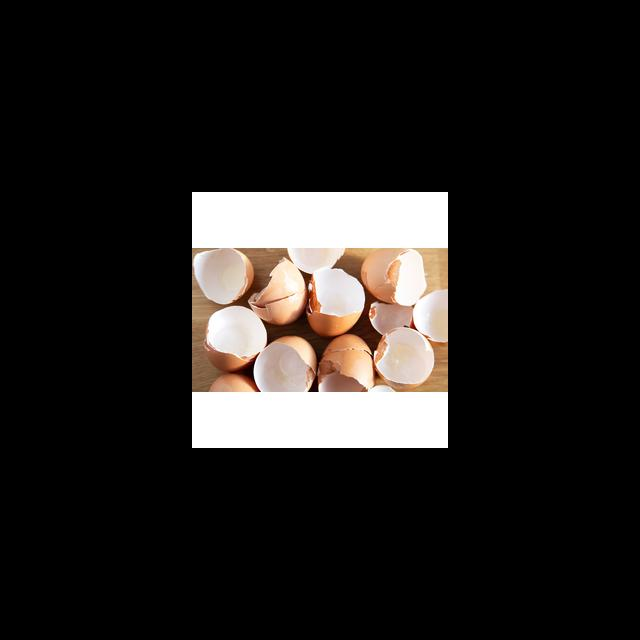food_waste: (192, 303, 281, 365), (244, 253, 303, 327), (256, 329, 330, 387), (380, 329, 446, 391), (354, 243, 422, 302), (192, 244, 257, 304), (322, 338, 371, 397), (277, 239, 348, 273), (419, 272, 448, 338)
